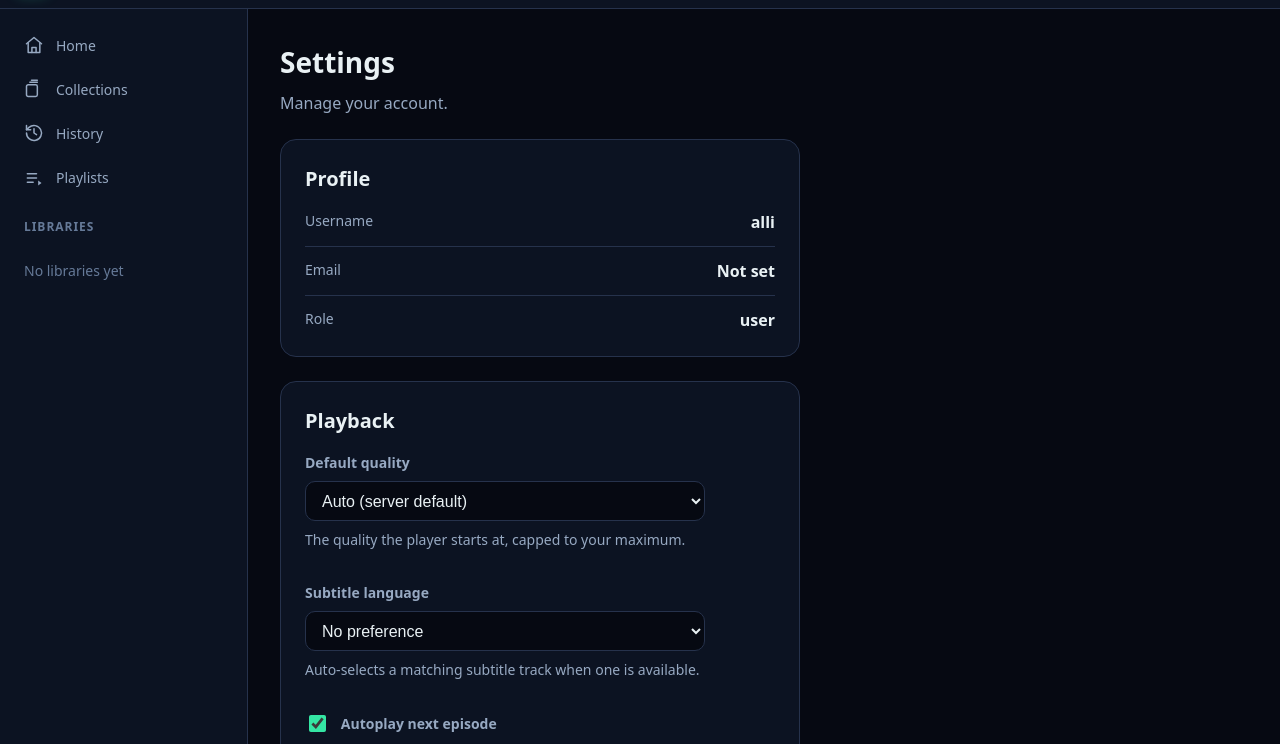
Test: SettingsPage — Playback preferences › reports a validation error from the server without a success message
The width and height of the screenshot is (1280, 744).
Expected: the dropdown labelled "Default quality" is enabled, [305,481,705,521]
// Force the server to reject: patch a bad quality directly through the client.
Select "English" in the dropdown labelled "Subtitle language". click: (505, 631)
box: [305,611,705,651]
(page scrolled)
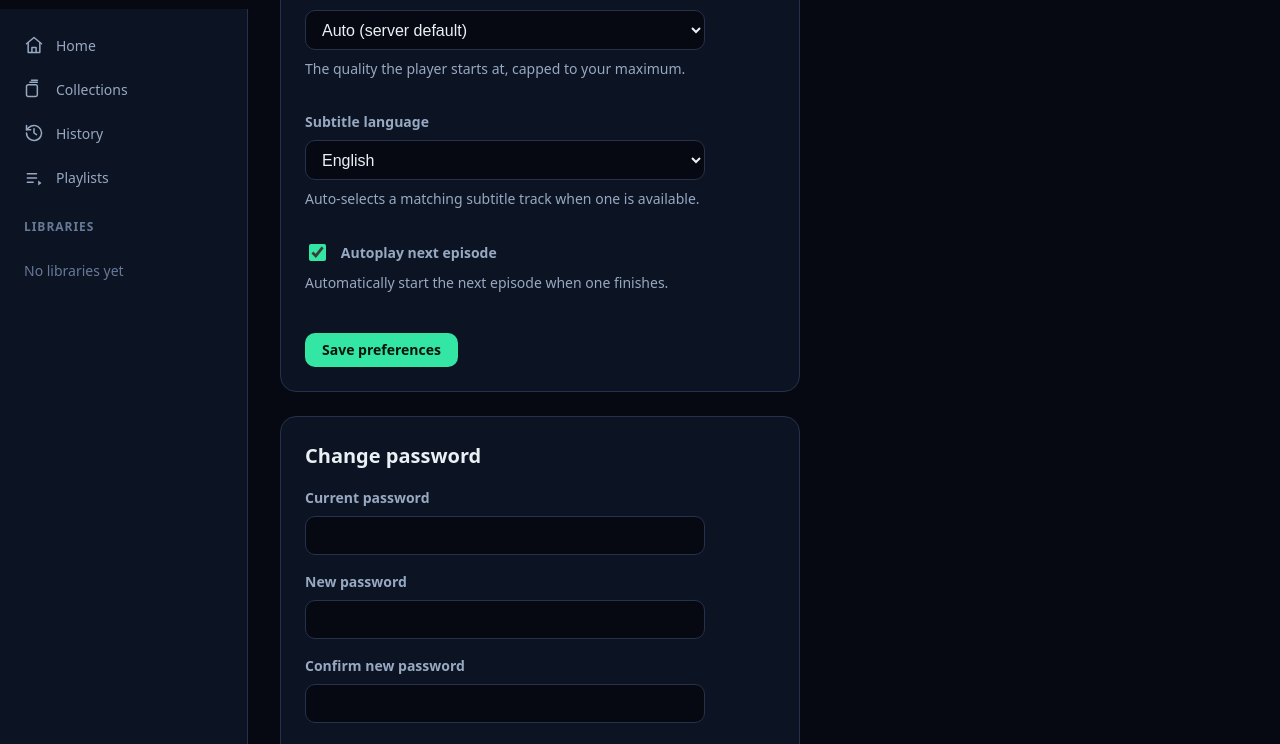
Click the button "Save preferences". click: click(381, 350)
box: [305,333,458,367]
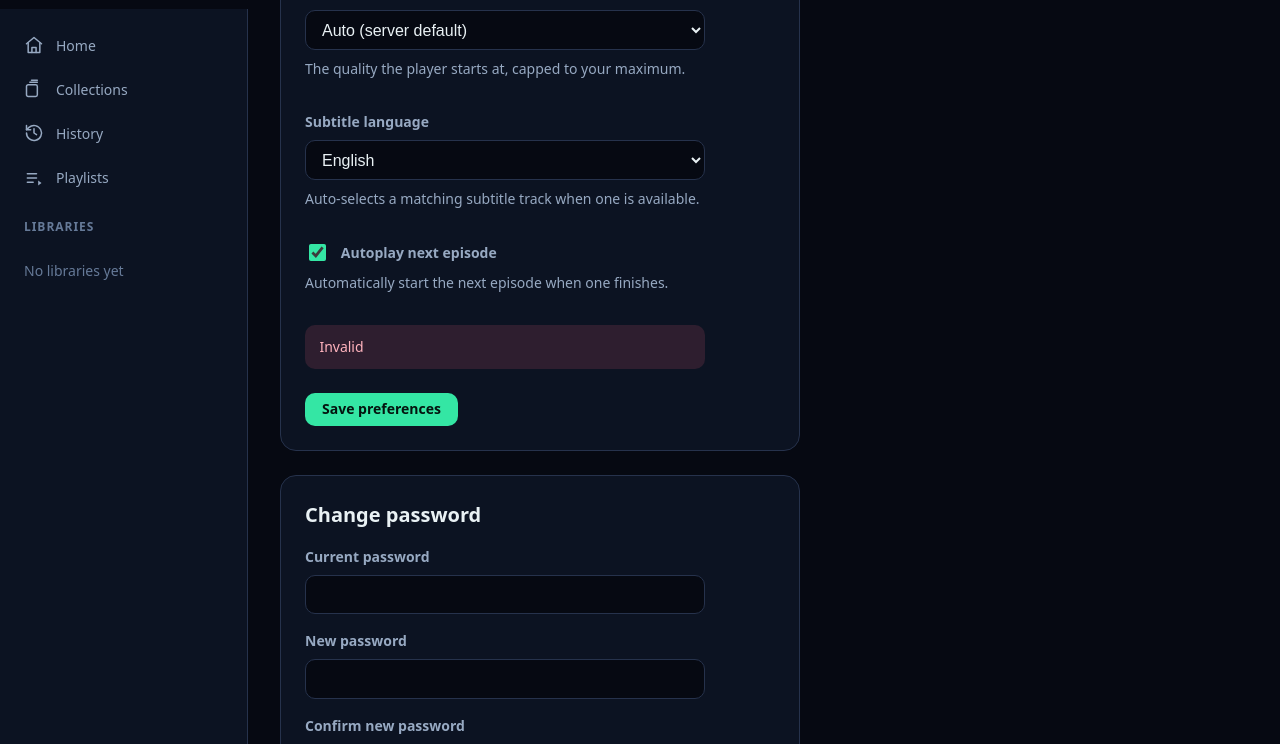
Result: the message reads "Invalid" at [319,337,364,356]
